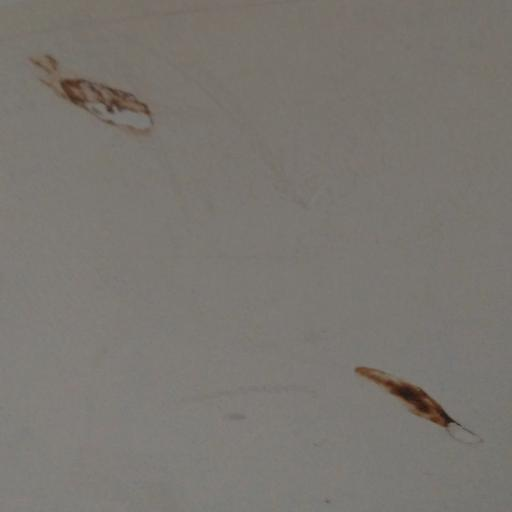stain: (12, 36, 170, 159), (346, 335, 499, 460), (149, 374, 330, 432)
